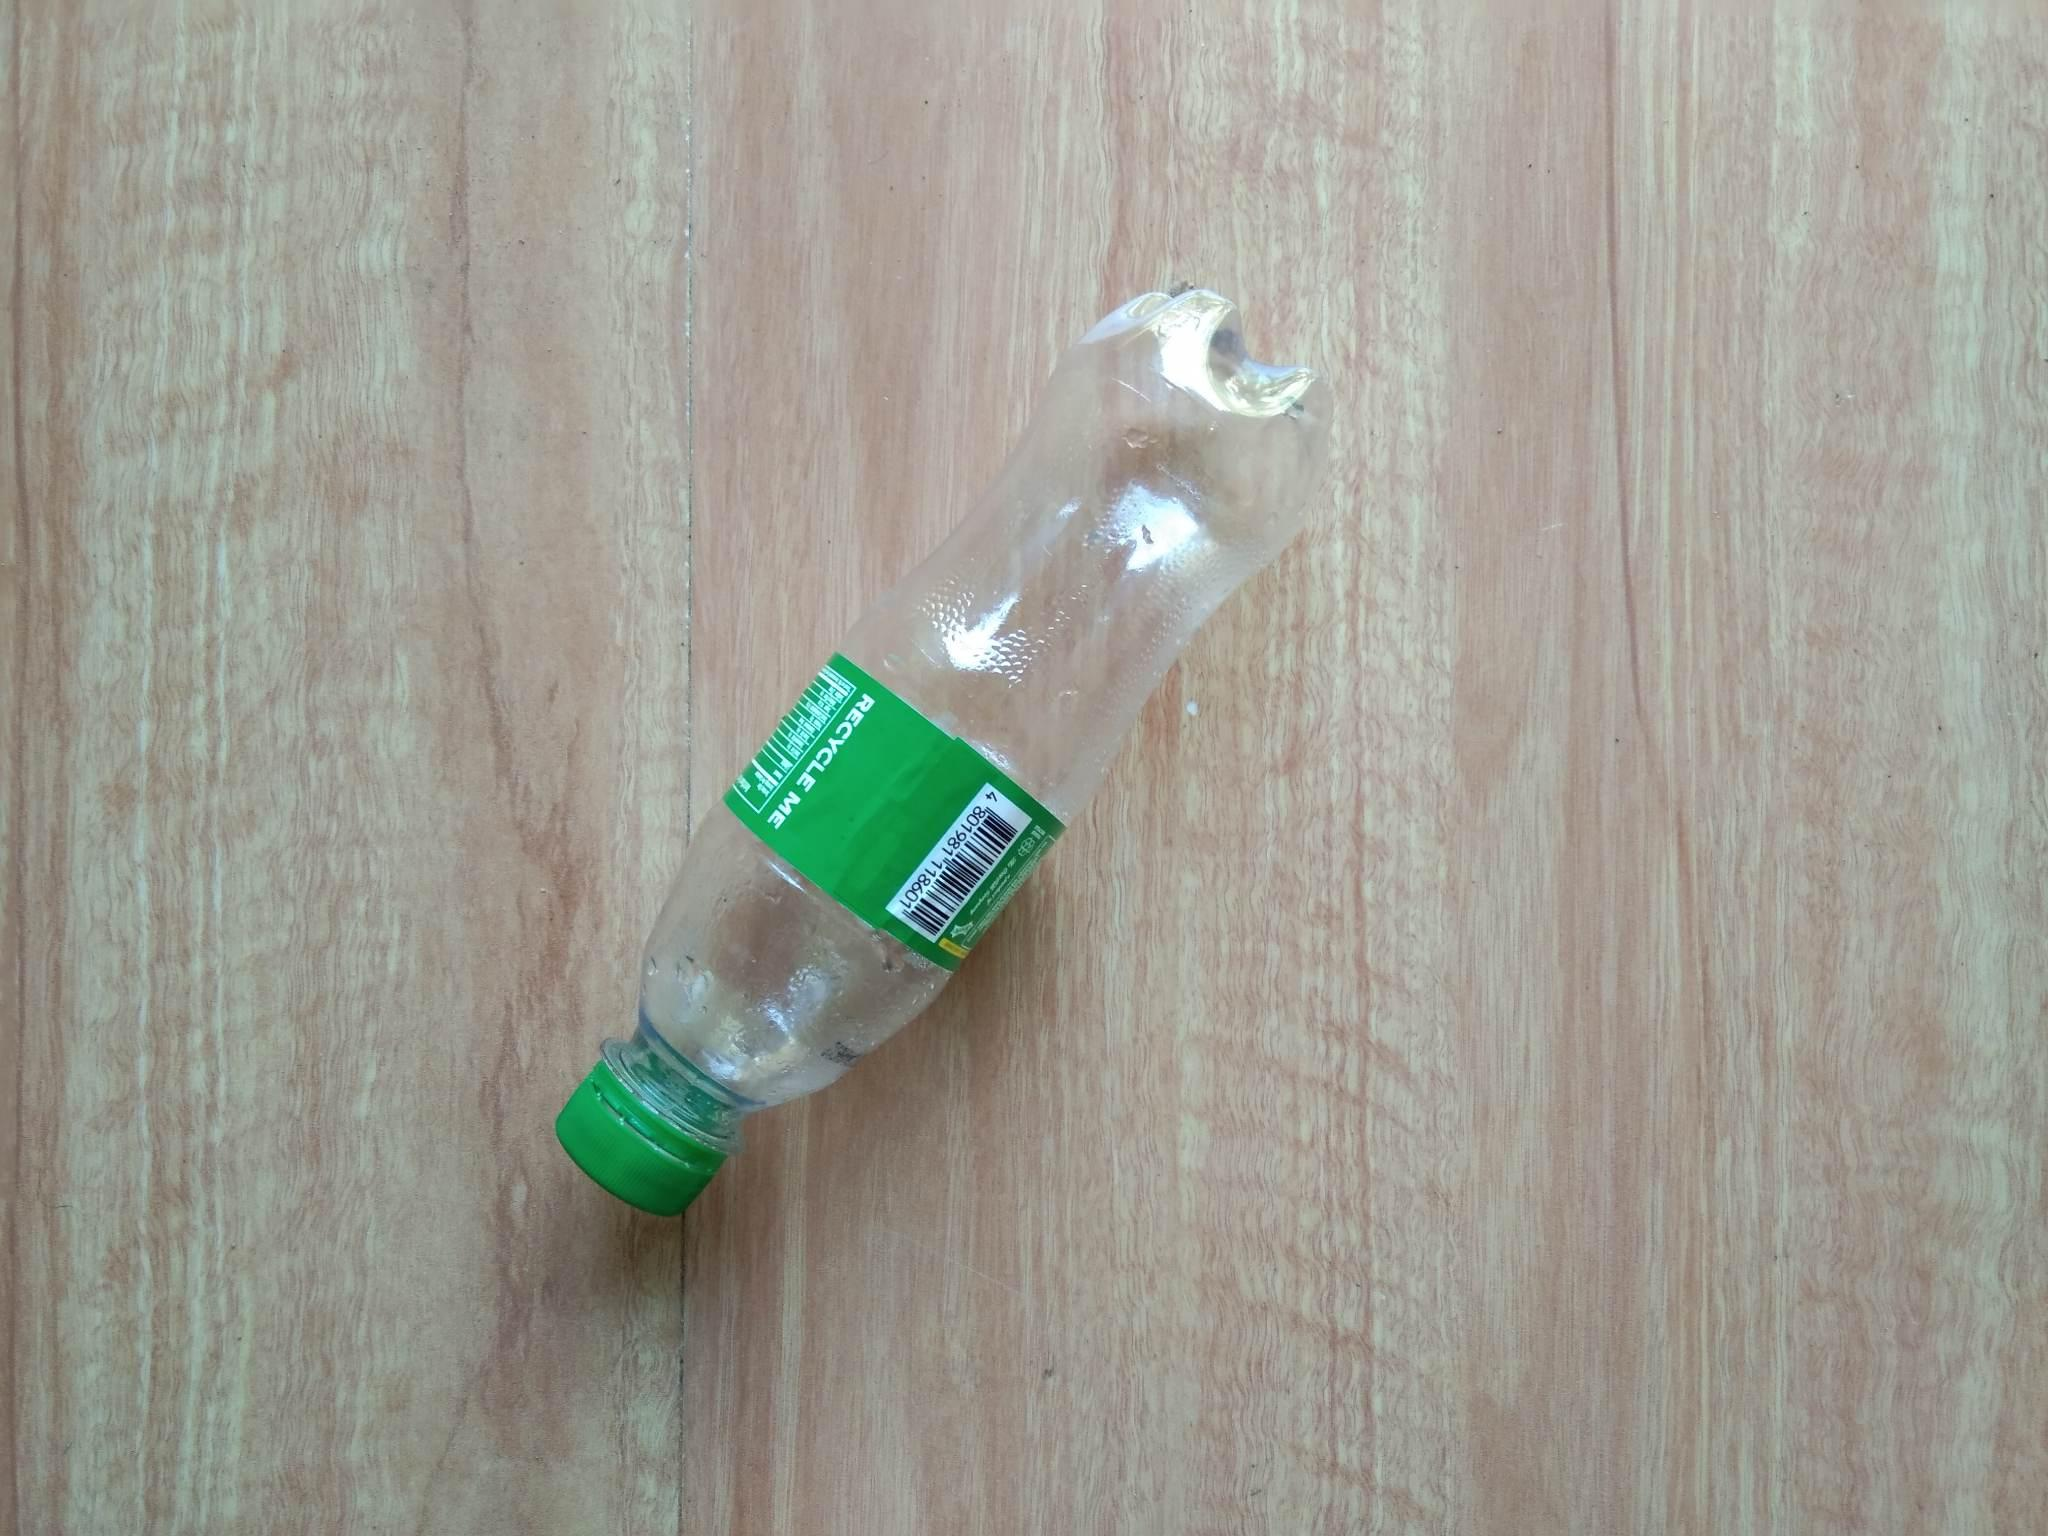plastic: (323, 239, 1600, 1333)
